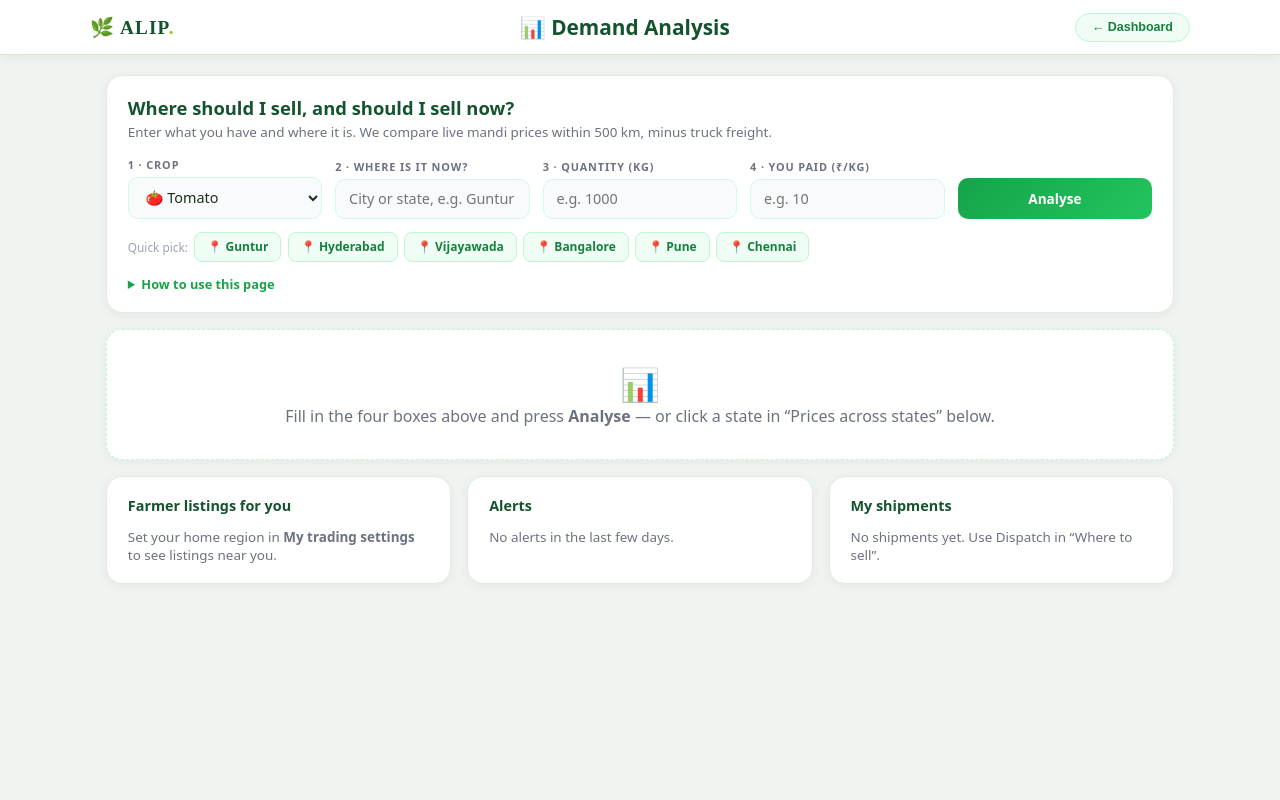
Test: loading state while the analysis is in flight
Type "Guntur" into the field labelled "2 · Where is it now?" at (432, 199), box top-left (335, 179), bottom-right (530, 219)
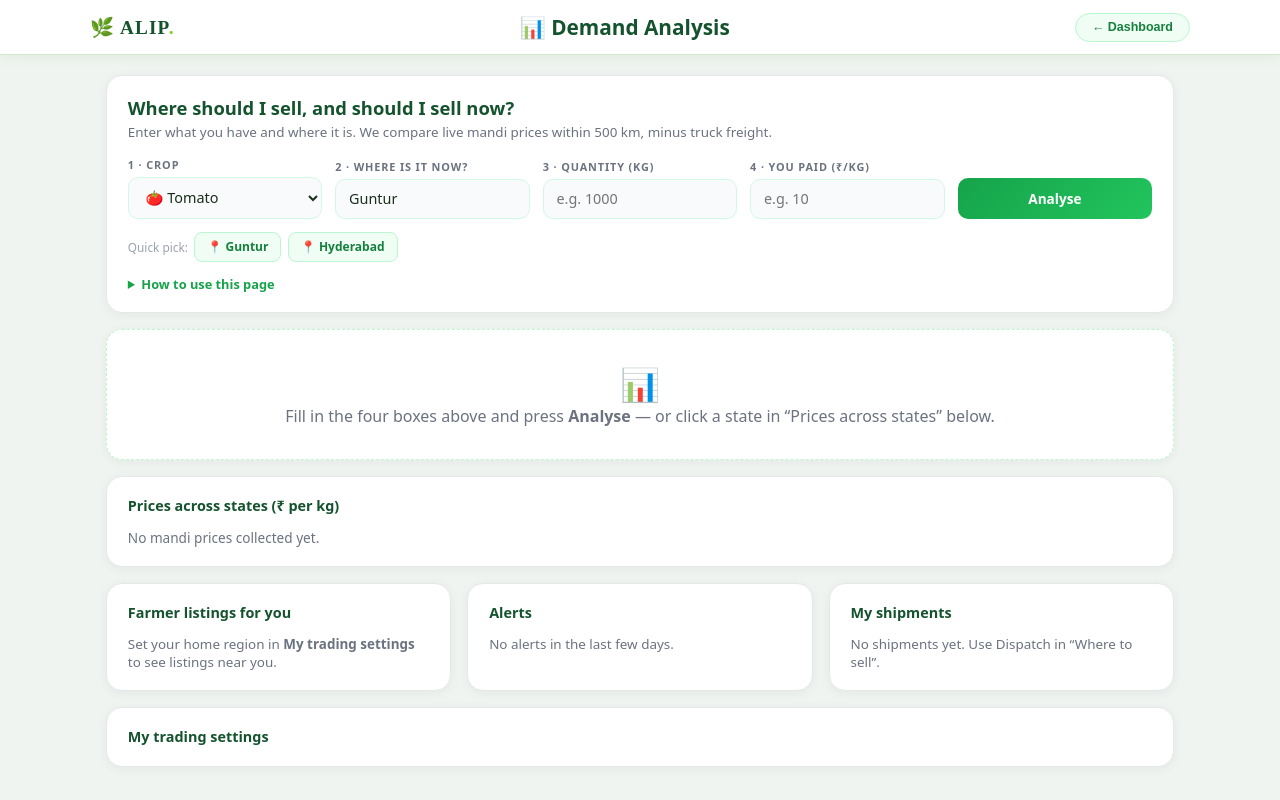
Click the button "Analyse" at (1055, 198), box top-left (958, 178), bottom-right (1152, 219)
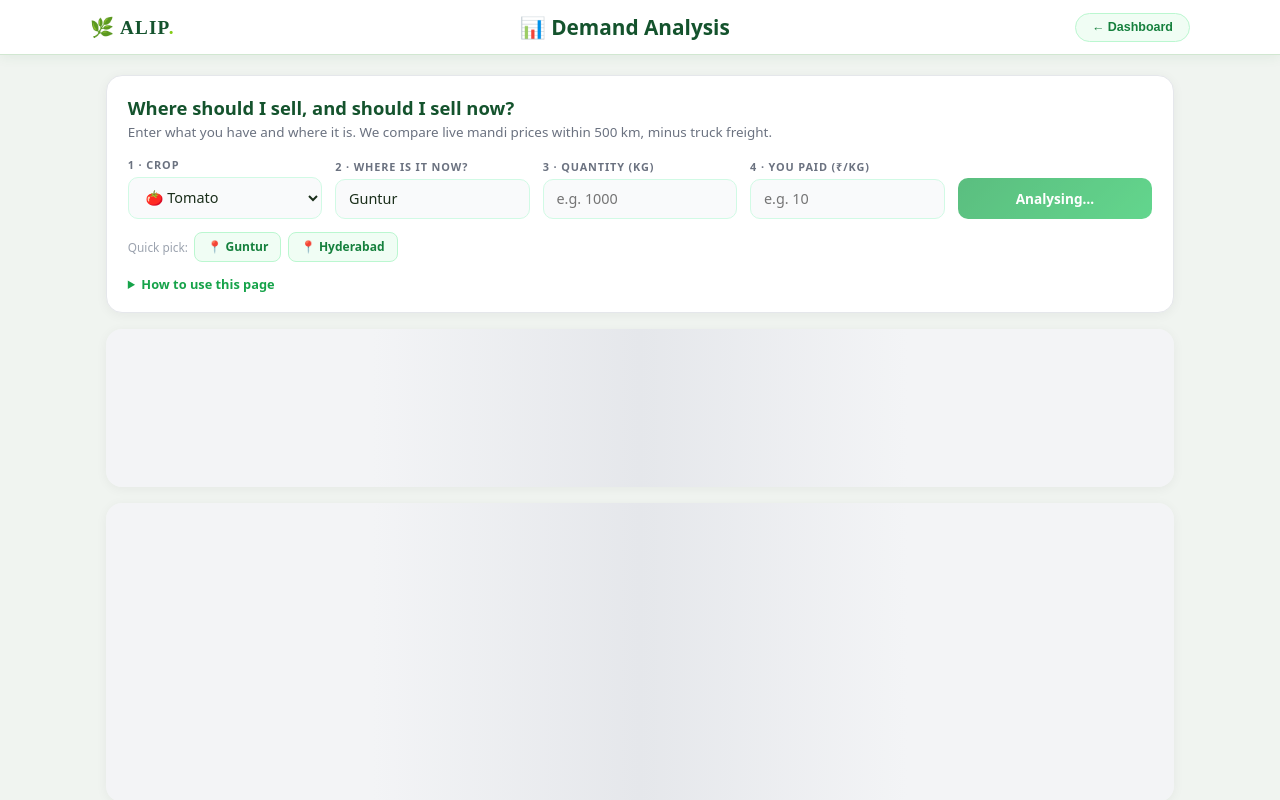
Check: the button "Analysing…" is disabled, box top-left (958, 178), bottom-right (1152, 219)
